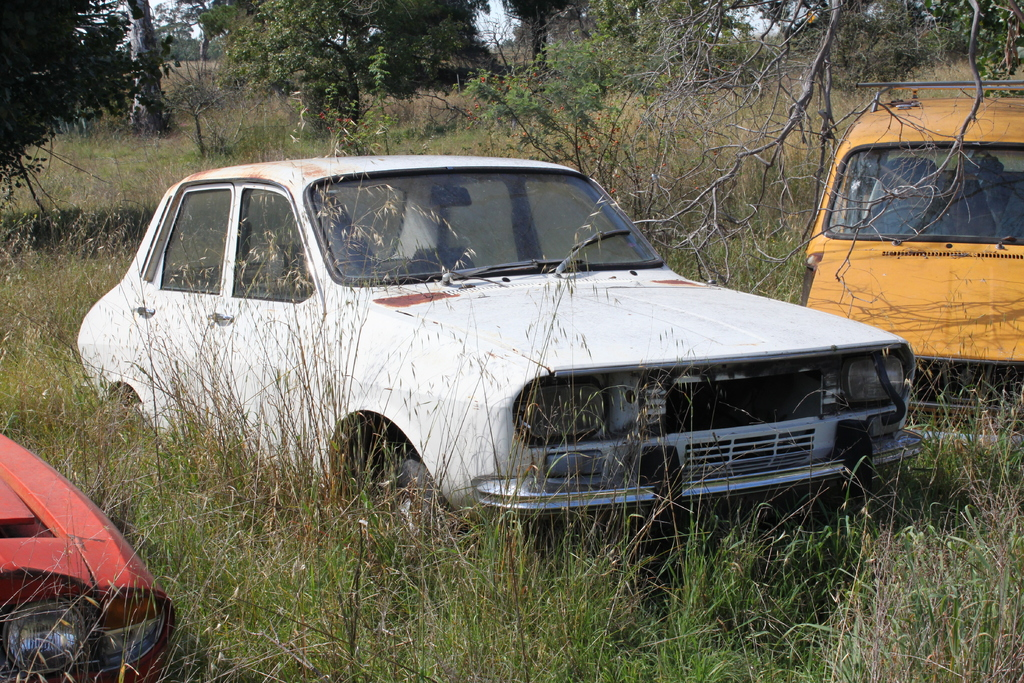Car: (76, 155, 927, 553), (797, 79, 1023, 449), (0, 430, 179, 682)
